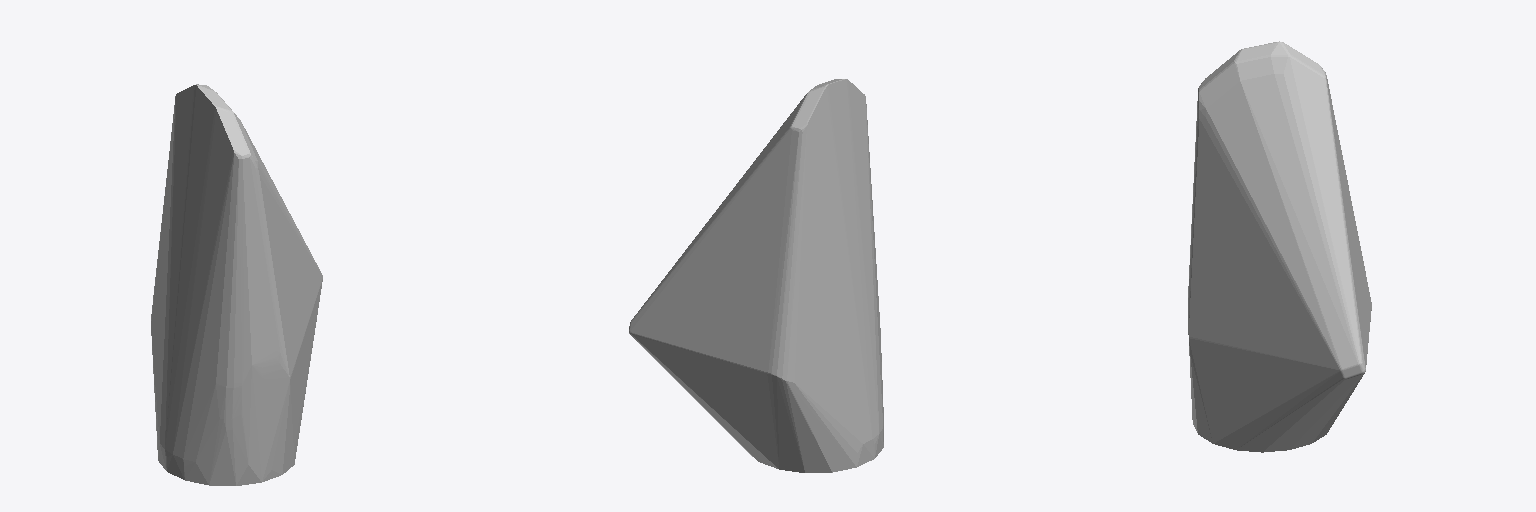
The model's file is armar6-righthand-v2-complete-ch.obj.
3 renders of one model, left to right at view 1: azimuth 30°, elevation 25°; view 2: azimuth 150°, elevation 25°; view 3: azimuth 270°, elevation 25°, orthographic.
Bounding box in the file's own units: 0.146 × 0.2641 × 0.1187.